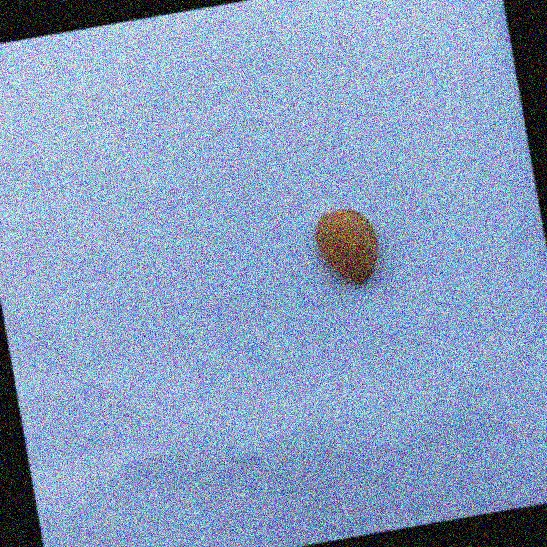grade2: (306, 201, 387, 294)
